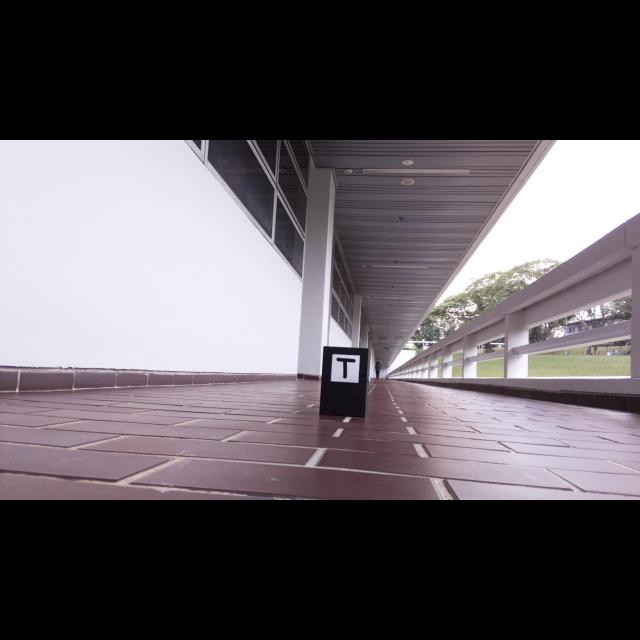T: (336, 358, 356, 379)
